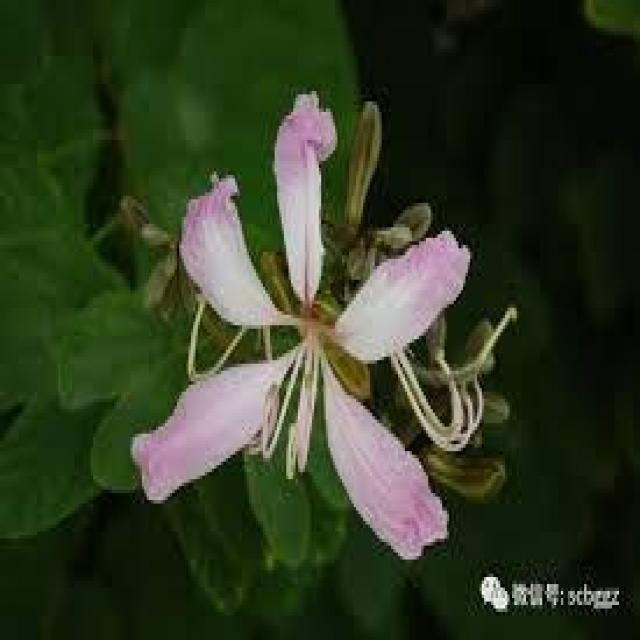organic waste: (119, 93, 477, 554)
